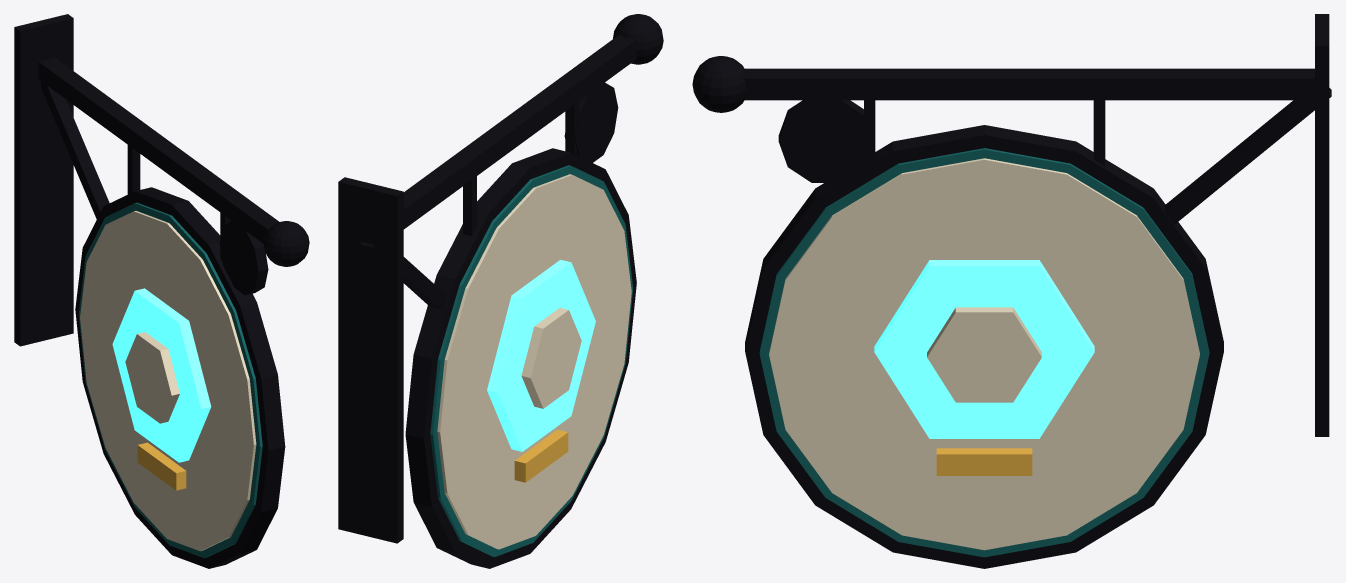
The model's file is shop_jeweler_sign.gltf.
The picture shows the model from 3 angles, left to right: view 1: azimuth 30°, elevation 25°; view 2: azimuth 150°, elevation 25°; view 3: azimuth 270°, elevation 25°; orthographic projection. The views are drawn at different scales.
Visible parts, largest first — view 1: ShopJewelerSignShopIron, ShopJewelerSignShopCream, ShopJewelerSignShopCrystal, ShopJewelerSignShopCloth, ShopJewelerSignShopGold; view 2: ShopJewelerSignShopIron, ShopJewelerSignShopCream, ShopJewelerSignShopCrystal, ShopJewelerSignShopCloth, ShopJewelerSignShopGold; view 3: ShopJewelerSignShopCream, ShopJewelerSignShopIron, ShopJewelerSignShopCrystal, ShopJewelerSignShopCloth, ShopJewelerSignShopGold.
Part boxes in pixels (<box>): ShopJewelerSignShopIron: <box>14,14,309,568</box>; ShopJewelerSignShopCream: <box>80,211,256,551</box>; ShopJewelerSignShopCrystal: <box>112,288,211,462</box>; ShopJewelerSignShopCloth: <box>78,202,262,558</box>; ShopJewelerSignShopGold: <box>137,442,186,490</box>; ShopJewelerSignShopIron: <box>338,14,663,568</box>; ShopJewelerSignShopCream: <box>437,174,631,549</box>; ShopJewelerSignShopCrystal: <box>487,259,595,451</box>; ShopJewelerSignShopCloth: <box>430,165,633,556</box>; ShopJewelerSignShopGold: <box>514,429,568,482</box>; ShopJewelerSignShopCream: <box>769,158,1199,550</box>; ShopJewelerSignShopIron: <box>692,14,1331,568</box>; ShopJewelerSignShopCrystal: <box>874,260,1094,438</box>; ShopJewelerSignShopCloth: <box>759,148,1209,557</box>; ShopJewelerSignShopGold: <box>936,448,1032,475</box>.
Size of the model in its own units: 0.19 by 1.23 by 1.33.
